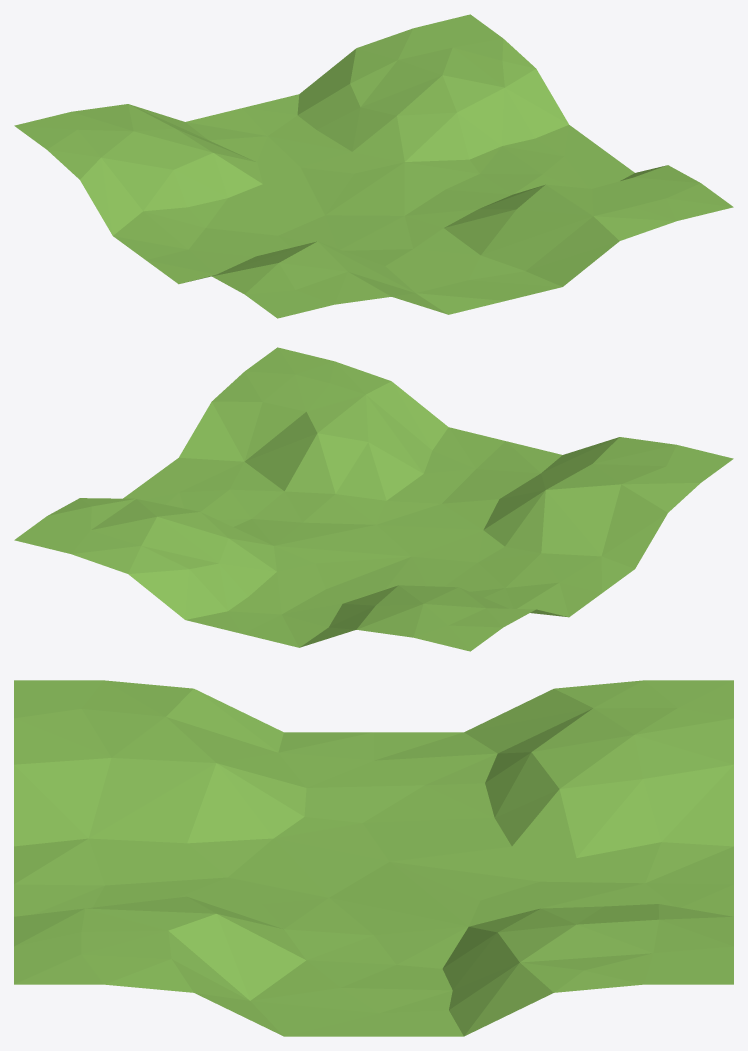
The model's file is MT_River_S_d_01_LOD.fbx.
The picture shows the model from 3 angles, top to bottom: view 1: azimuth 30°, elevation 25°; view 2: azimuth 150°, elevation 25°; view 3: azimuth 270°, elevation 25°; orthographic projection. The views are drawn at different scales.
Visible parts, largest first — view 1: MT_River_S_d_01_LOD0; view 2: MT_River_S_d_01_LOD0; view 3: MT_River_S_d_01_LOD0.
Part boxes in pixels (x1,y1,x2,y2): MT_River_S_d_01_LOD0: (14,14,733,318); MT_River_S_d_01_LOD0: (14,347,733,651); MT_River_S_d_01_LOD0: (14,680,733,1036).
Size of what is drawn, in the model's own units: 2500 by 234 by 2500.
